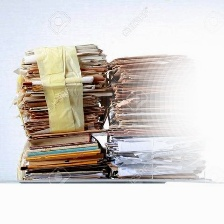news_paper: (103, 42, 213, 181), (8, 39, 111, 181)
